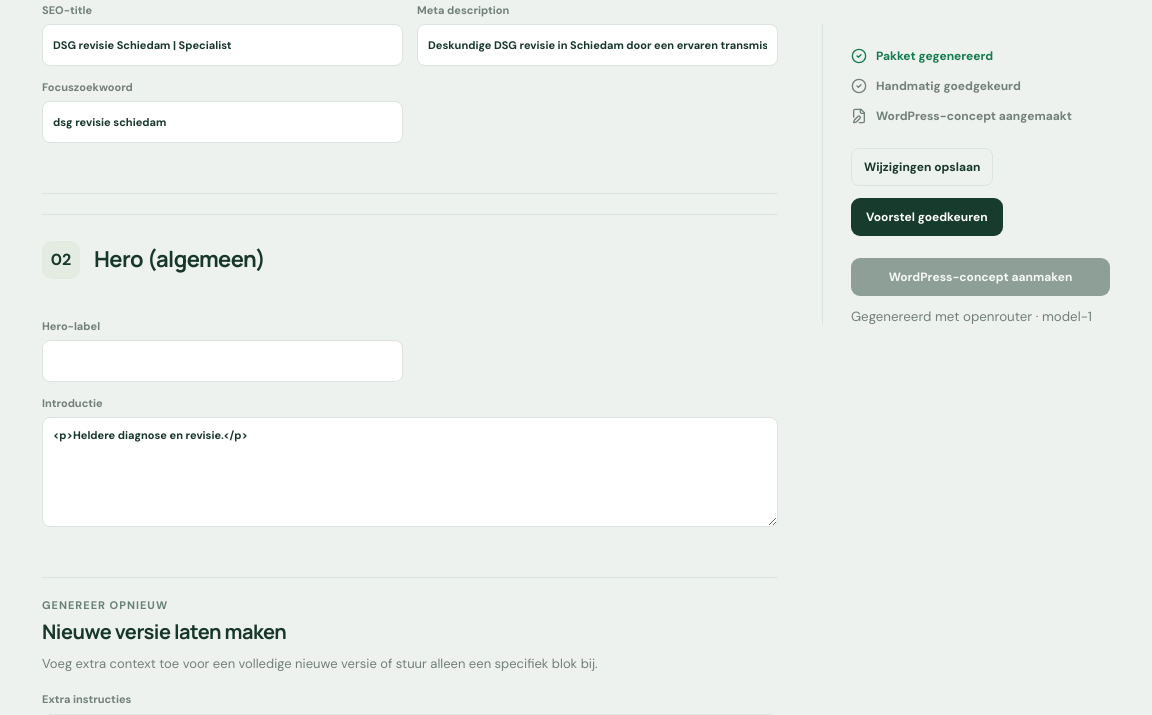
Test case: PagePackageReview › saves unsaved edits before approving the exact proposal package
(page scrolled)
Type "Eerst opgeslagen" into the field labelled "Hero-label" at (222,361), box [42,340,403,382]
(page scrolled)
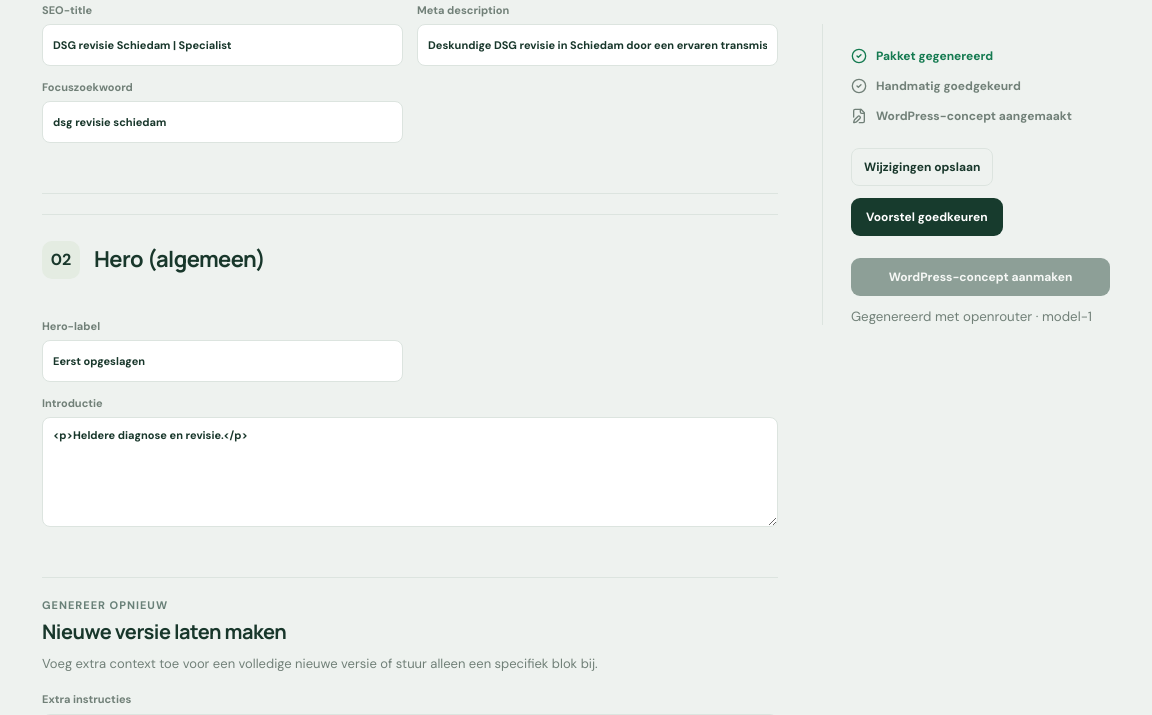
Click the button "Voorstel goedkeuren" at (927,217), box [851,198,1003,236]
(page scrolled)
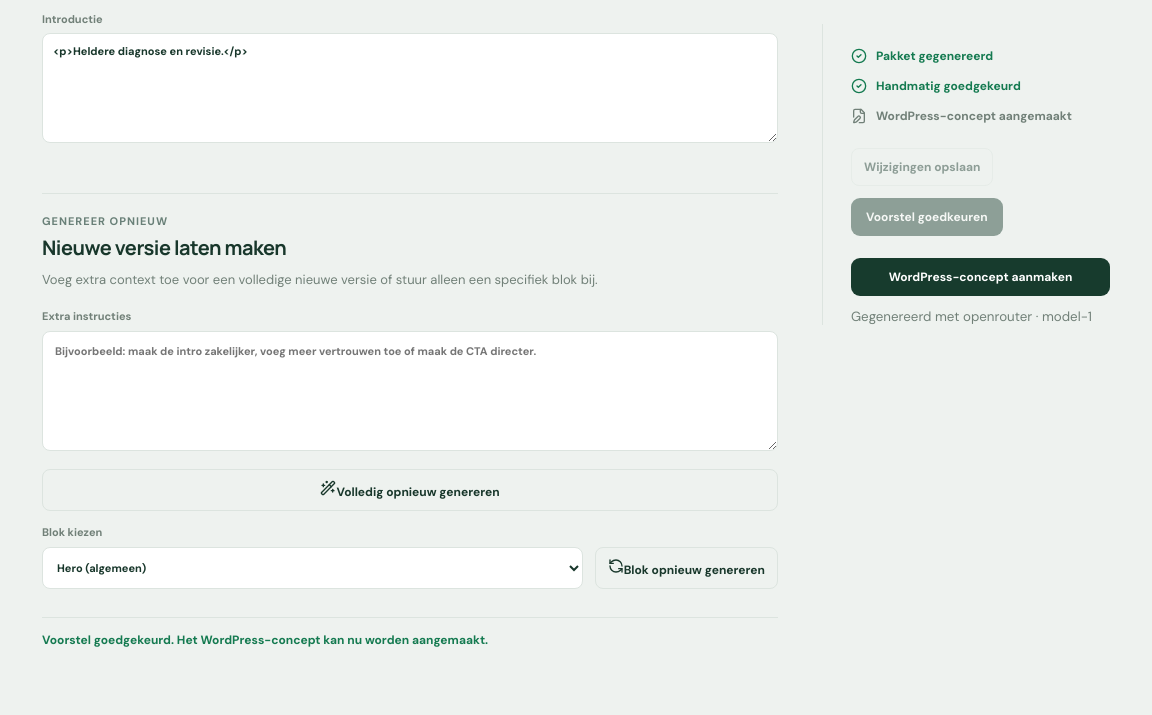
Check: the text "Voorstel goedgekeurd. Het WordPress-concept kan nu worden aangemaakt." is shown, box [42,632,488,648]
